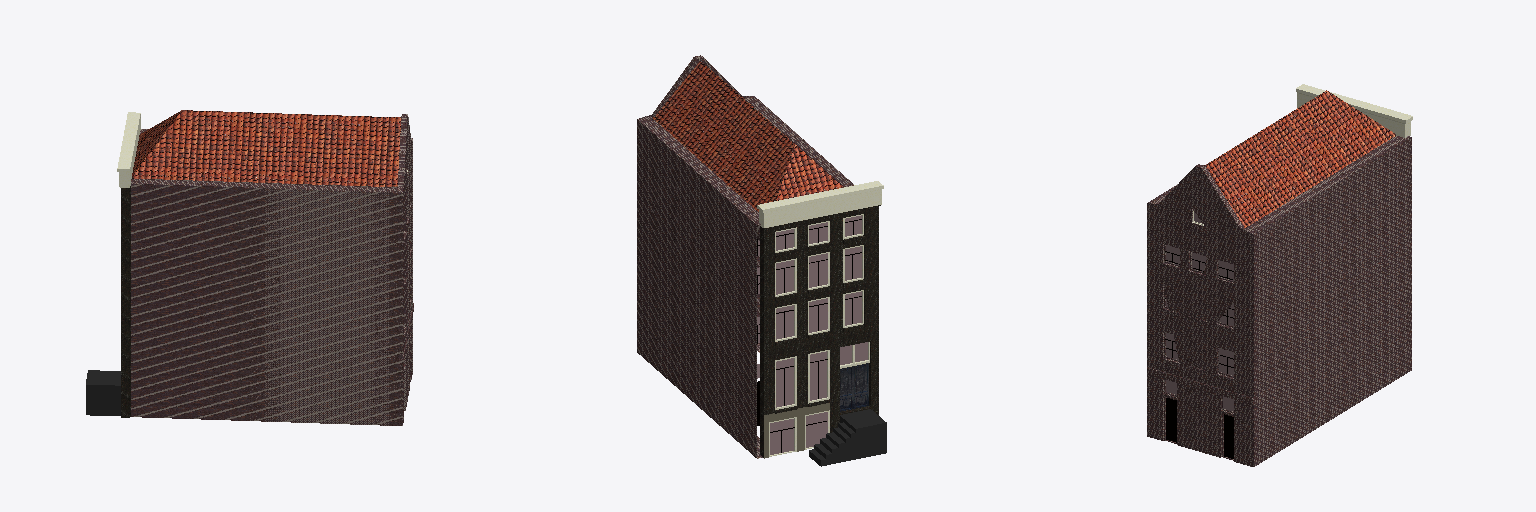
3 views of the same model, side by side, from view 1: azimuth 30°, elevation 25°; view 2: azimuth 150°, elevation 25°; view 3: azimuth 270°, elevation 25° (orthographic).
Visible parts, largest first — view 1: test_model; view 2: test_model; view 3: test_model.
Part boxes in pixels (x1,y1,x2,y2): test_model: (86,110,413,425); test_model: (637,55,886,466); test_model: (1147,84,1412,466).
Bounding box in the file's own units: 17.13 × 16.19 × 13.69.
Materials: 9 (5 with a texture image).